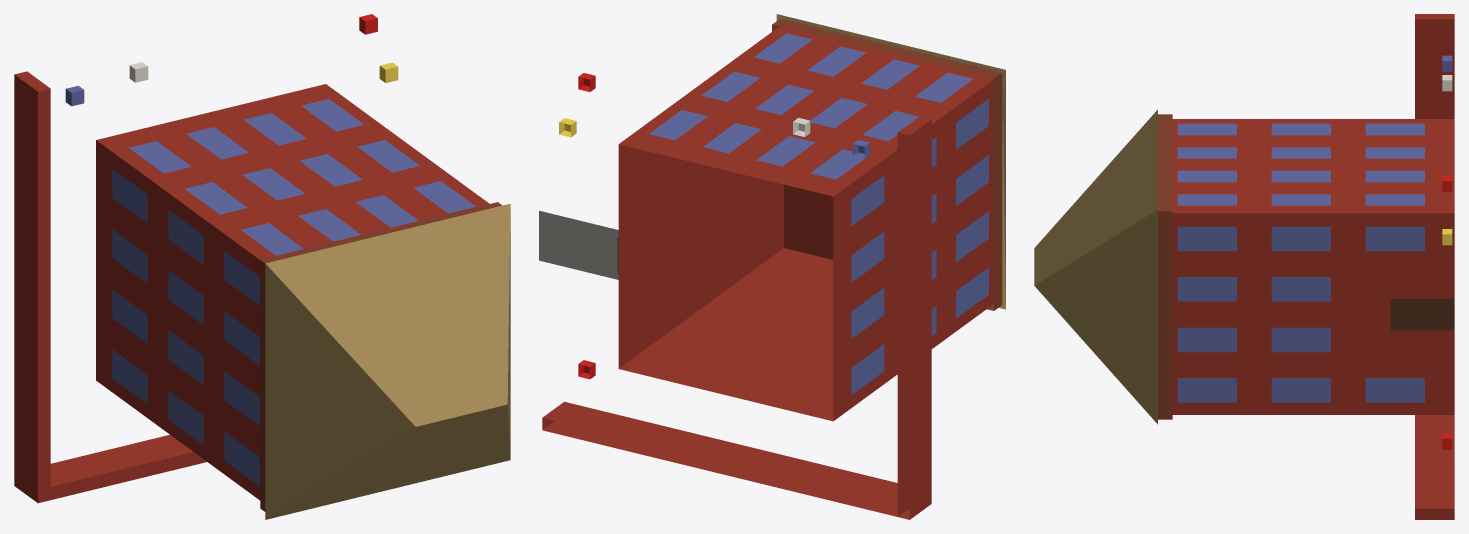
Rendered from complete.glb.
3 renders of one model, left to right at view 1: azimuth 30°, elevation 25°; view 2: azimuth 150°, elevation 25°; view 3: azimuth 270°, elevation 25°, orthographic. The views are drawn at different scales.
Visible parts, largest first — view 1: complete; view 2: complete; view 3: complete.
Part boxes in pixels (x1,y1,x2,y2): complete: (14,14,510,519); complete: (539,14,1005,519); complete: (1034,14,1454,519).
Bounding box in the file's own units: 15.6 × 15.4 × 17.
